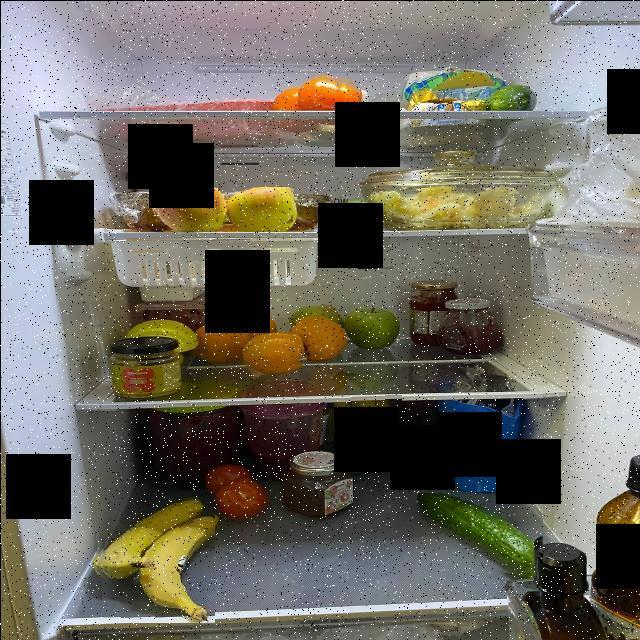Apple: (152, 181, 223, 230), (220, 187, 295, 231), (342, 304, 400, 347), (287, 300, 337, 323)
Banana: (92, 494, 215, 623), (334, 395, 402, 469)
Cucumber: (418, 492, 544, 580), (326, 200, 374, 225), (486, 86, 530, 110)
Orange: (242, 334, 310, 369), (188, 322, 248, 361)
Tomato: (298, 75, 361, 108), (220, 479, 266, 513), (206, 467, 248, 484), (277, 83, 303, 108)
